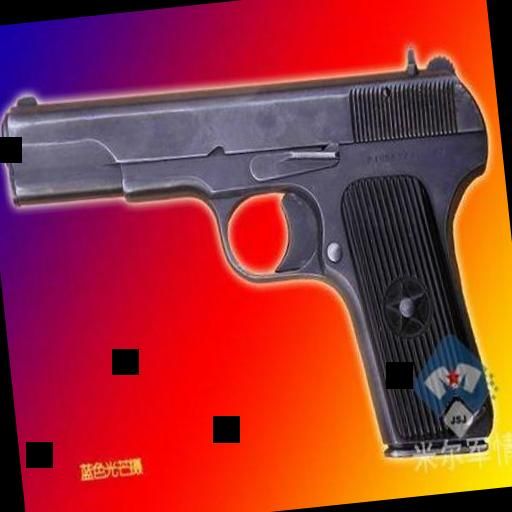Handgun: (0, 39, 512, 501)
